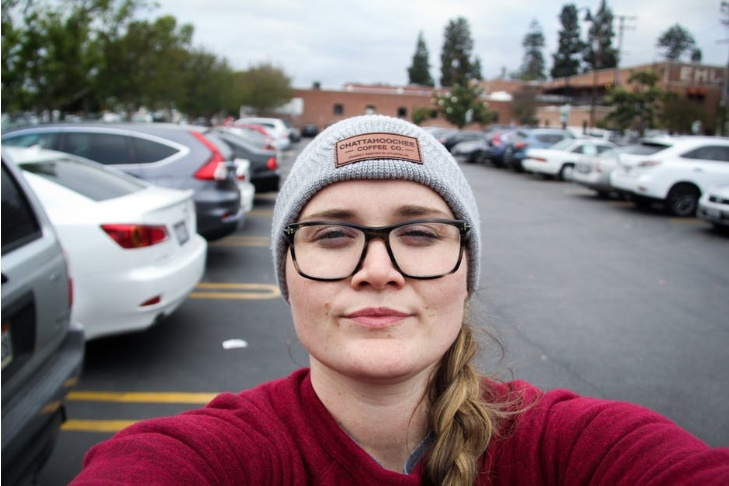face: (285, 177, 459, 362)
